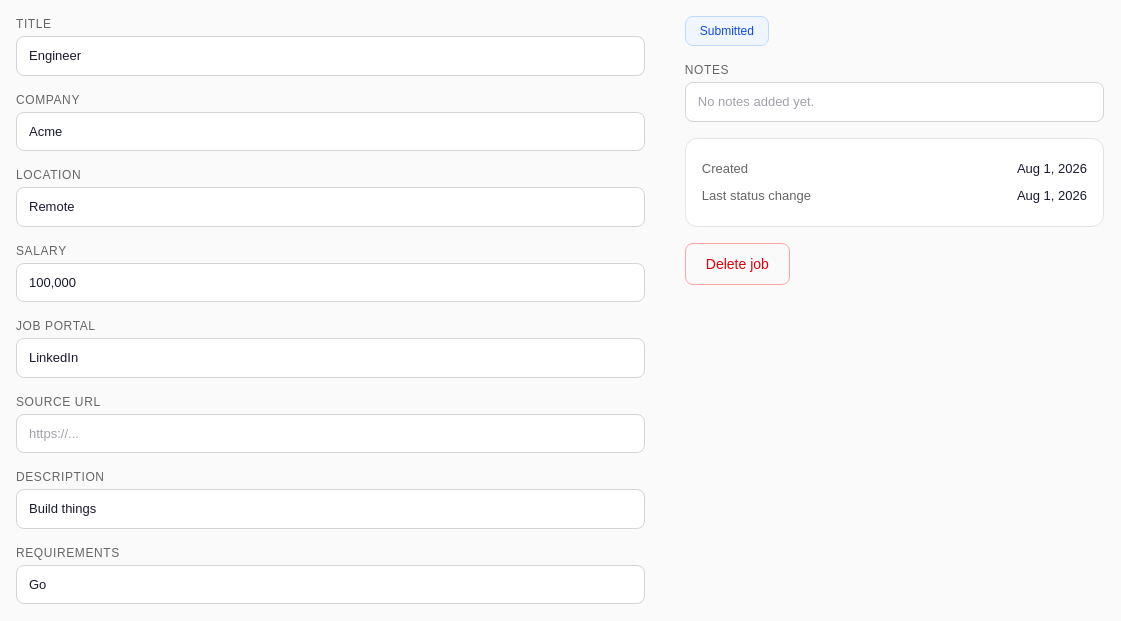
Test: JobEditor delete confirm › shows an error when delete fails
Click the button "Delete job" at coordinates (737, 264), box [685,242,790,284]
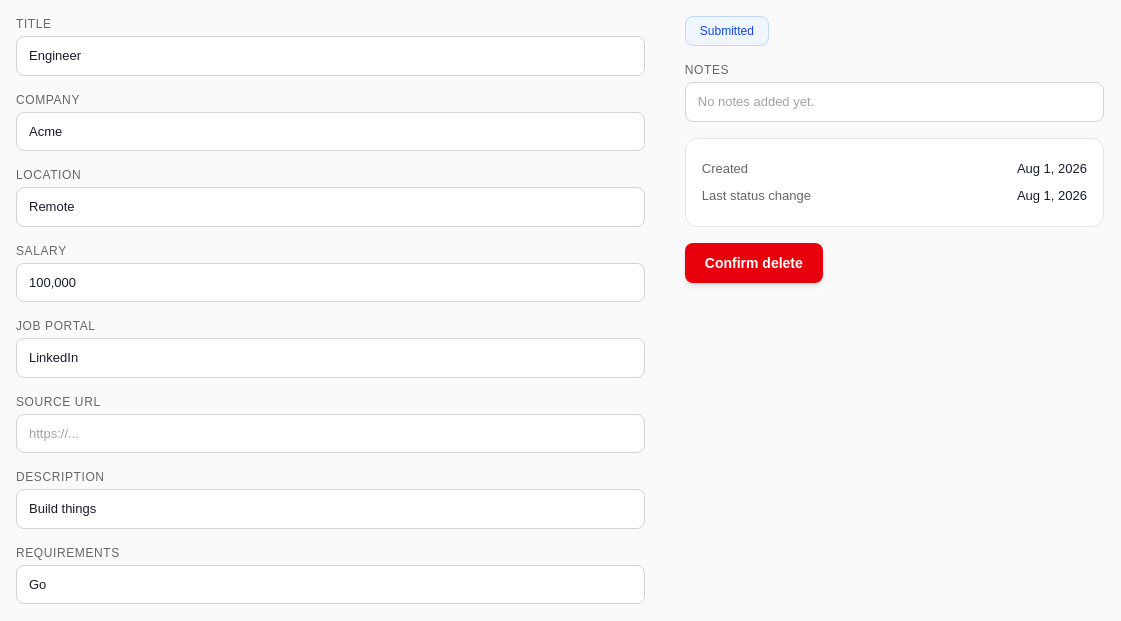
Click the button "Confirm delete" at coordinates (754, 262), box [685,242,823,282]
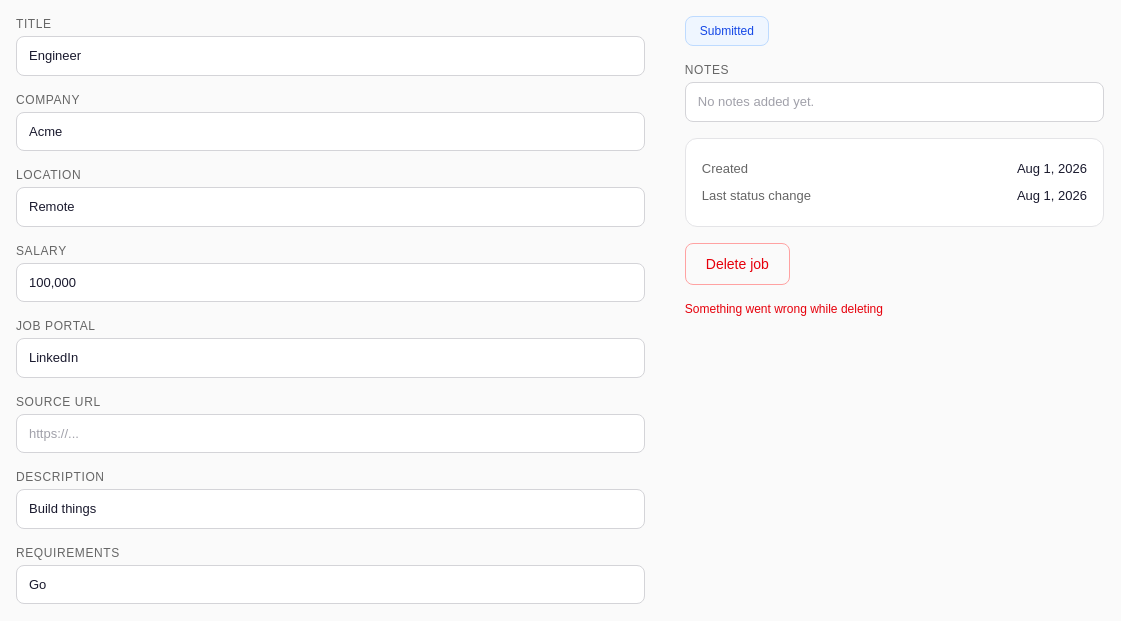
Check: the text "Something went wrong while deleting" is shown, box [685,302,883,316]
Check: the button "Delete job" is shown, box [685,242,790,284]
